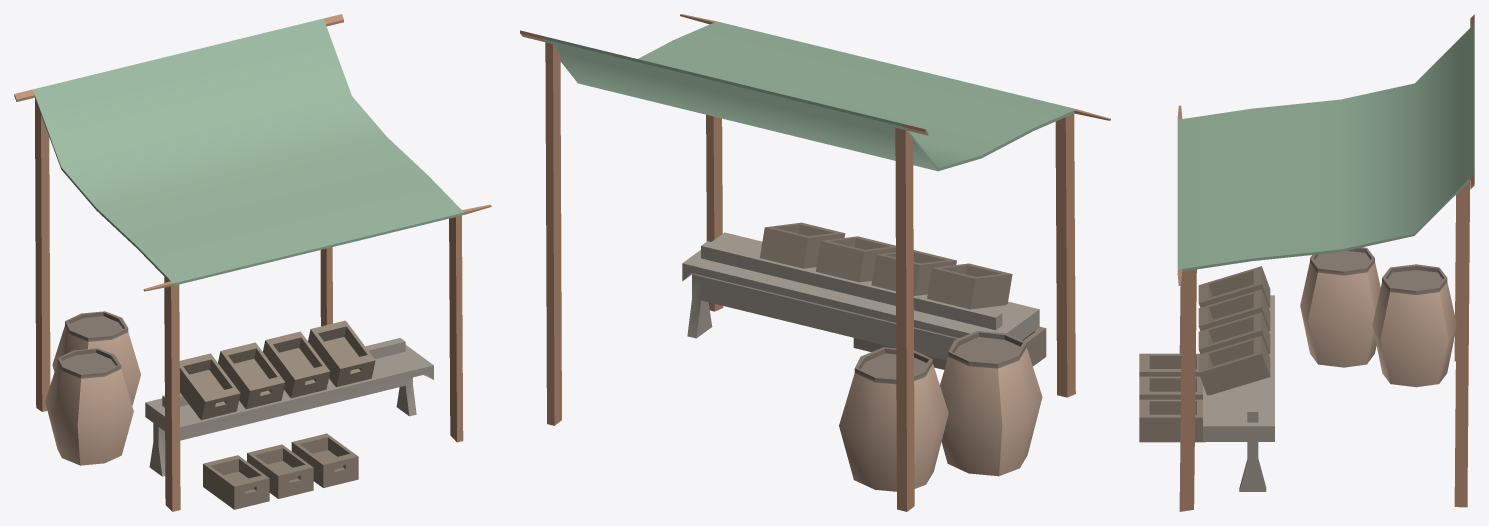
The model's file is marketstand.fbx.
3 views of the same model, side by side, from view 1: azimuth 30°, elevation 25°; view 2: azimuth 150°, elevation 25°; view 3: azimuth 270°, elevation 25° (orthographic). The views are drawn at different scales.
Parts seen in each view (by area): view 1: roof, pCube1, table, pCube2, BOX, BOX3, BOX4, BOX2, BOX6, BOX5, BOX1; view 2: roof, table, pCube1, pCube2, BOX, BOX3, BOX2, BOX4; view 3: roof, pCube2, pCube1, table, BOX3, BOX5, BOX2, BOX, BOX4, BOX1, BOX6.
Boxes of the visible parts, x1,y1,x2,y2 form: roof: (14,14,491,511); pCube1: (45,348,133,465); table: (145,338,433,476); pCube2: (52,311,140,405); BOX: (179,353,240,419); BOX3: (308,320,375,387); BOX4: (218,342,285,408); BOX2: (263,331,330,398); BOX6: (203,455,269,509); BOX5: (291,433,358,487); BOX1: (247,444,313,498); roof: (520,14,1110,511); table: (682,232,1039,360); pCube1: (940,331,1042,476); pCube2: (839,347,948,491); BOX: (927,263,1012,309); BOX3: (760,222,845,268); BOX2: (816,236,895,282); BOX4: (871,250,956,295); roof: (1177,14,1474,511); pCube2: (1372,264,1456,387); pCube1: (1300,247,1380,367); table: (1203,295,1274,491); BOX3: (1198,335,1270,395); BOX5: (1139,399,1205,442); BOX2: (1198,312,1270,354); BOX: (1198,266,1270,307); BOX4: (1198,289,1270,330); BOX1: (1139,376,1202,399); BOX6: (1139,353,1199,376).
Bounding box in the file's own units: 16.24 × 13.86 × 12.44.
